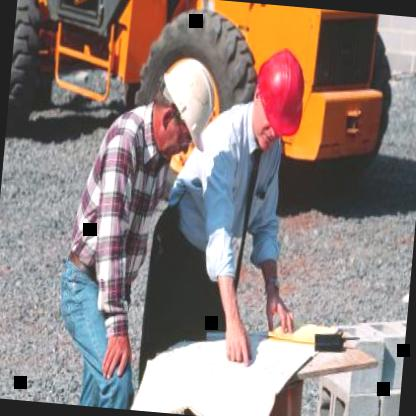helmet: (140, 40, 226, 171), (246, 44, 310, 145)
